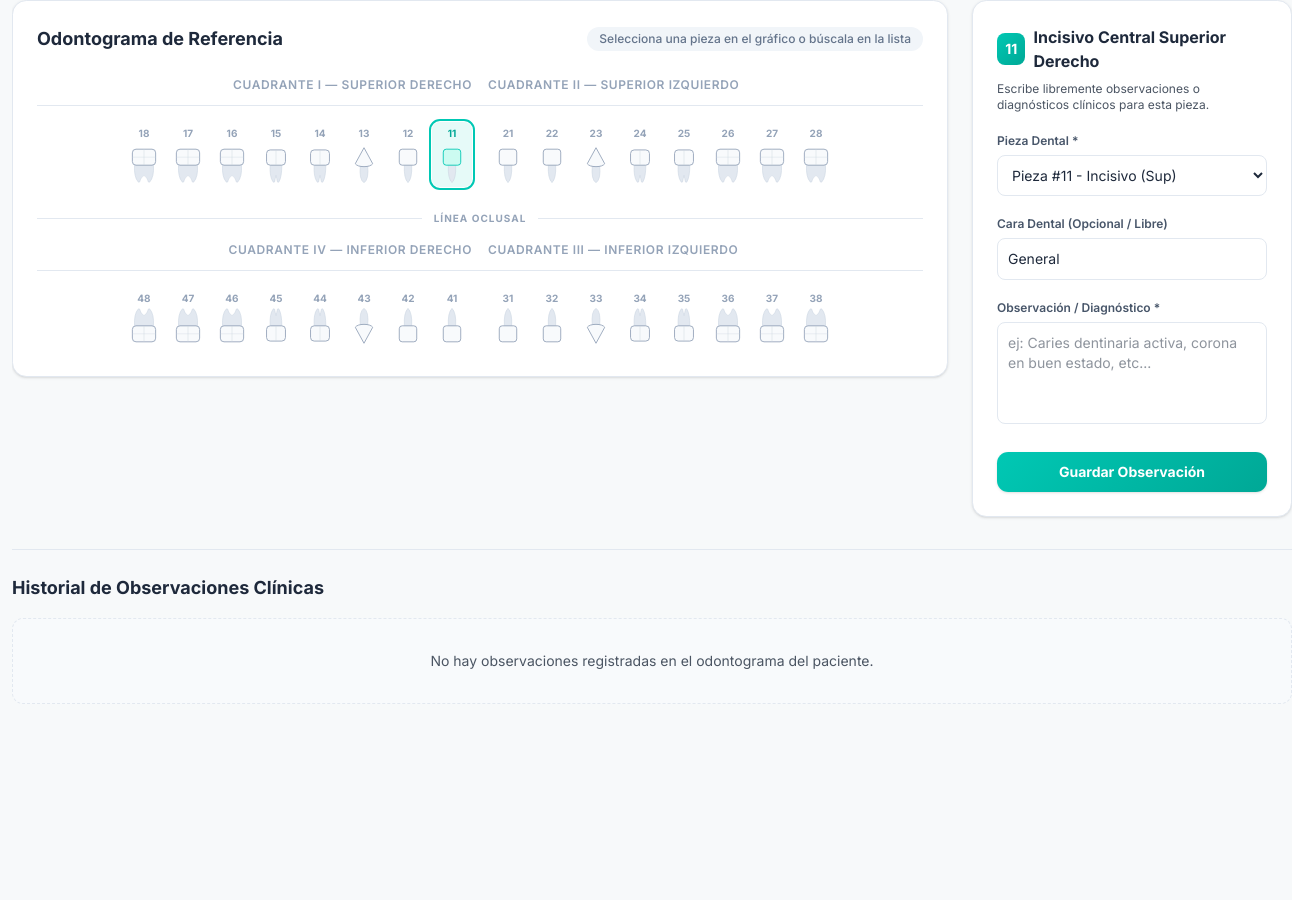
Scenario: OdontogramChart Component › 2. allows clicking a tooth to change the selected tooth
# Click tooth 21
Click the text "21".
click(508, 134)  # box top-left (503, 126), bottom-right (513, 141)
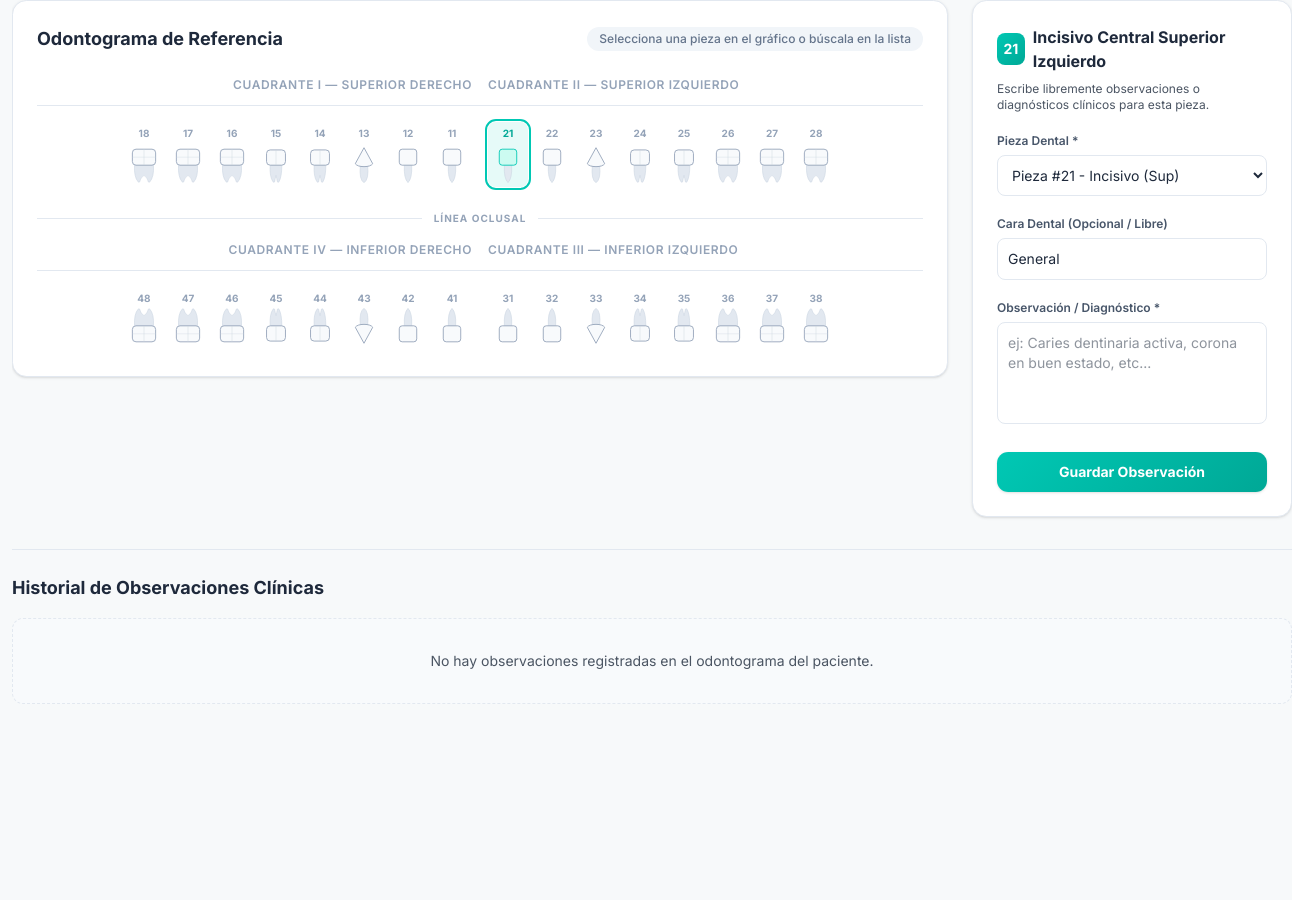
Check: the heading "Incisivo Central Superior Izquierdo" is shown, box top-left (1033, 27), bottom-right (1225, 71)
